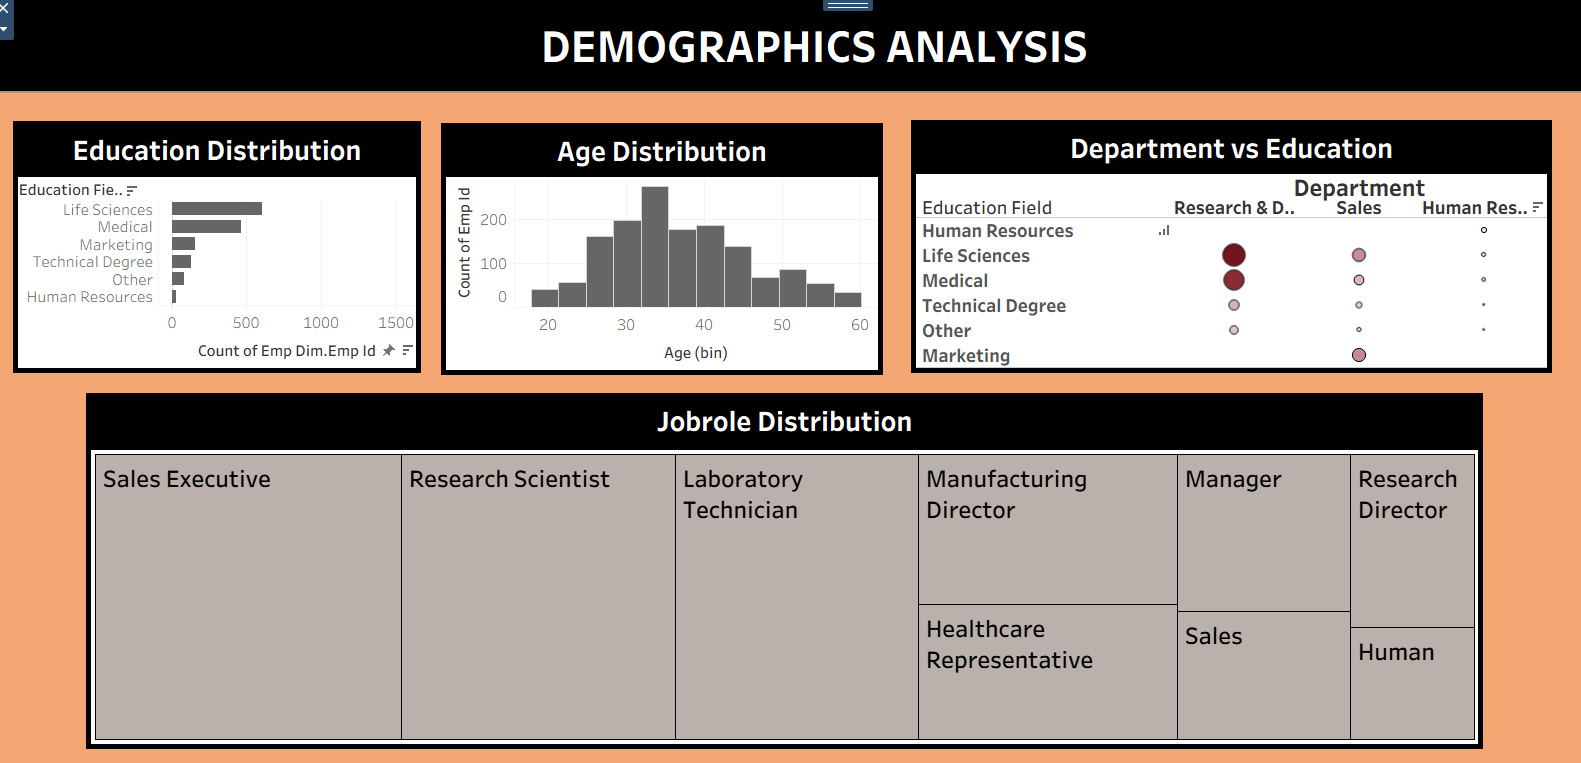

What the dashboard file says about the page in this screenshot:
{"tool":"tableau","page":{"name":"Demographics Dashboard","canvas":[1000,1000],"units":"permille","ordinal":1},"visuals":[{"type":"text","box":[5.2,7.6,950.6,118.5]},{"type":"worksheet","title":"Department vs Education","mark":"Circle","rows":["EducationField"],"cols":["Department"],"box":[536.6,163.1,372.7,322.3]},{"type":"worksheet","title":"Education Distribution","mark":"Bar","rows":["EducationField"],"cols":["emp dim.emp_id"],"box":[14.5,164.3,237.2,321]},{"type":"worksheet","title":"Age Distribution","mark":"Automatic","rows":["emp_id"],"cols":["Age (bin)"],"box":[263.4,166.9,257,321]},{"type":"worksheet","title":"Jobrole Distribution","mark":"Automatic","box":[57,510.8,812.2,453.5]}]}

Visuals, with their boxes on the dashboard's canvas, which has no fixed pixel size, in thousandths of its width and height (x1, y1, x2, y2). These are canvas units, not pixel positions in the 1581x763 screenshot, which may show the page scaled, cropped or inside an application window:
text: (5, 8, 956, 126)
"Department vs Education" worksheet (Circle marks): (537, 163, 909, 485)
"Education Distribution" worksheet (Bar marks): (14, 164, 252, 485)
"Age Distribution" worksheet: (263, 167, 520, 488)
"Jobrole Distribution" worksheet: (57, 511, 869, 964)
